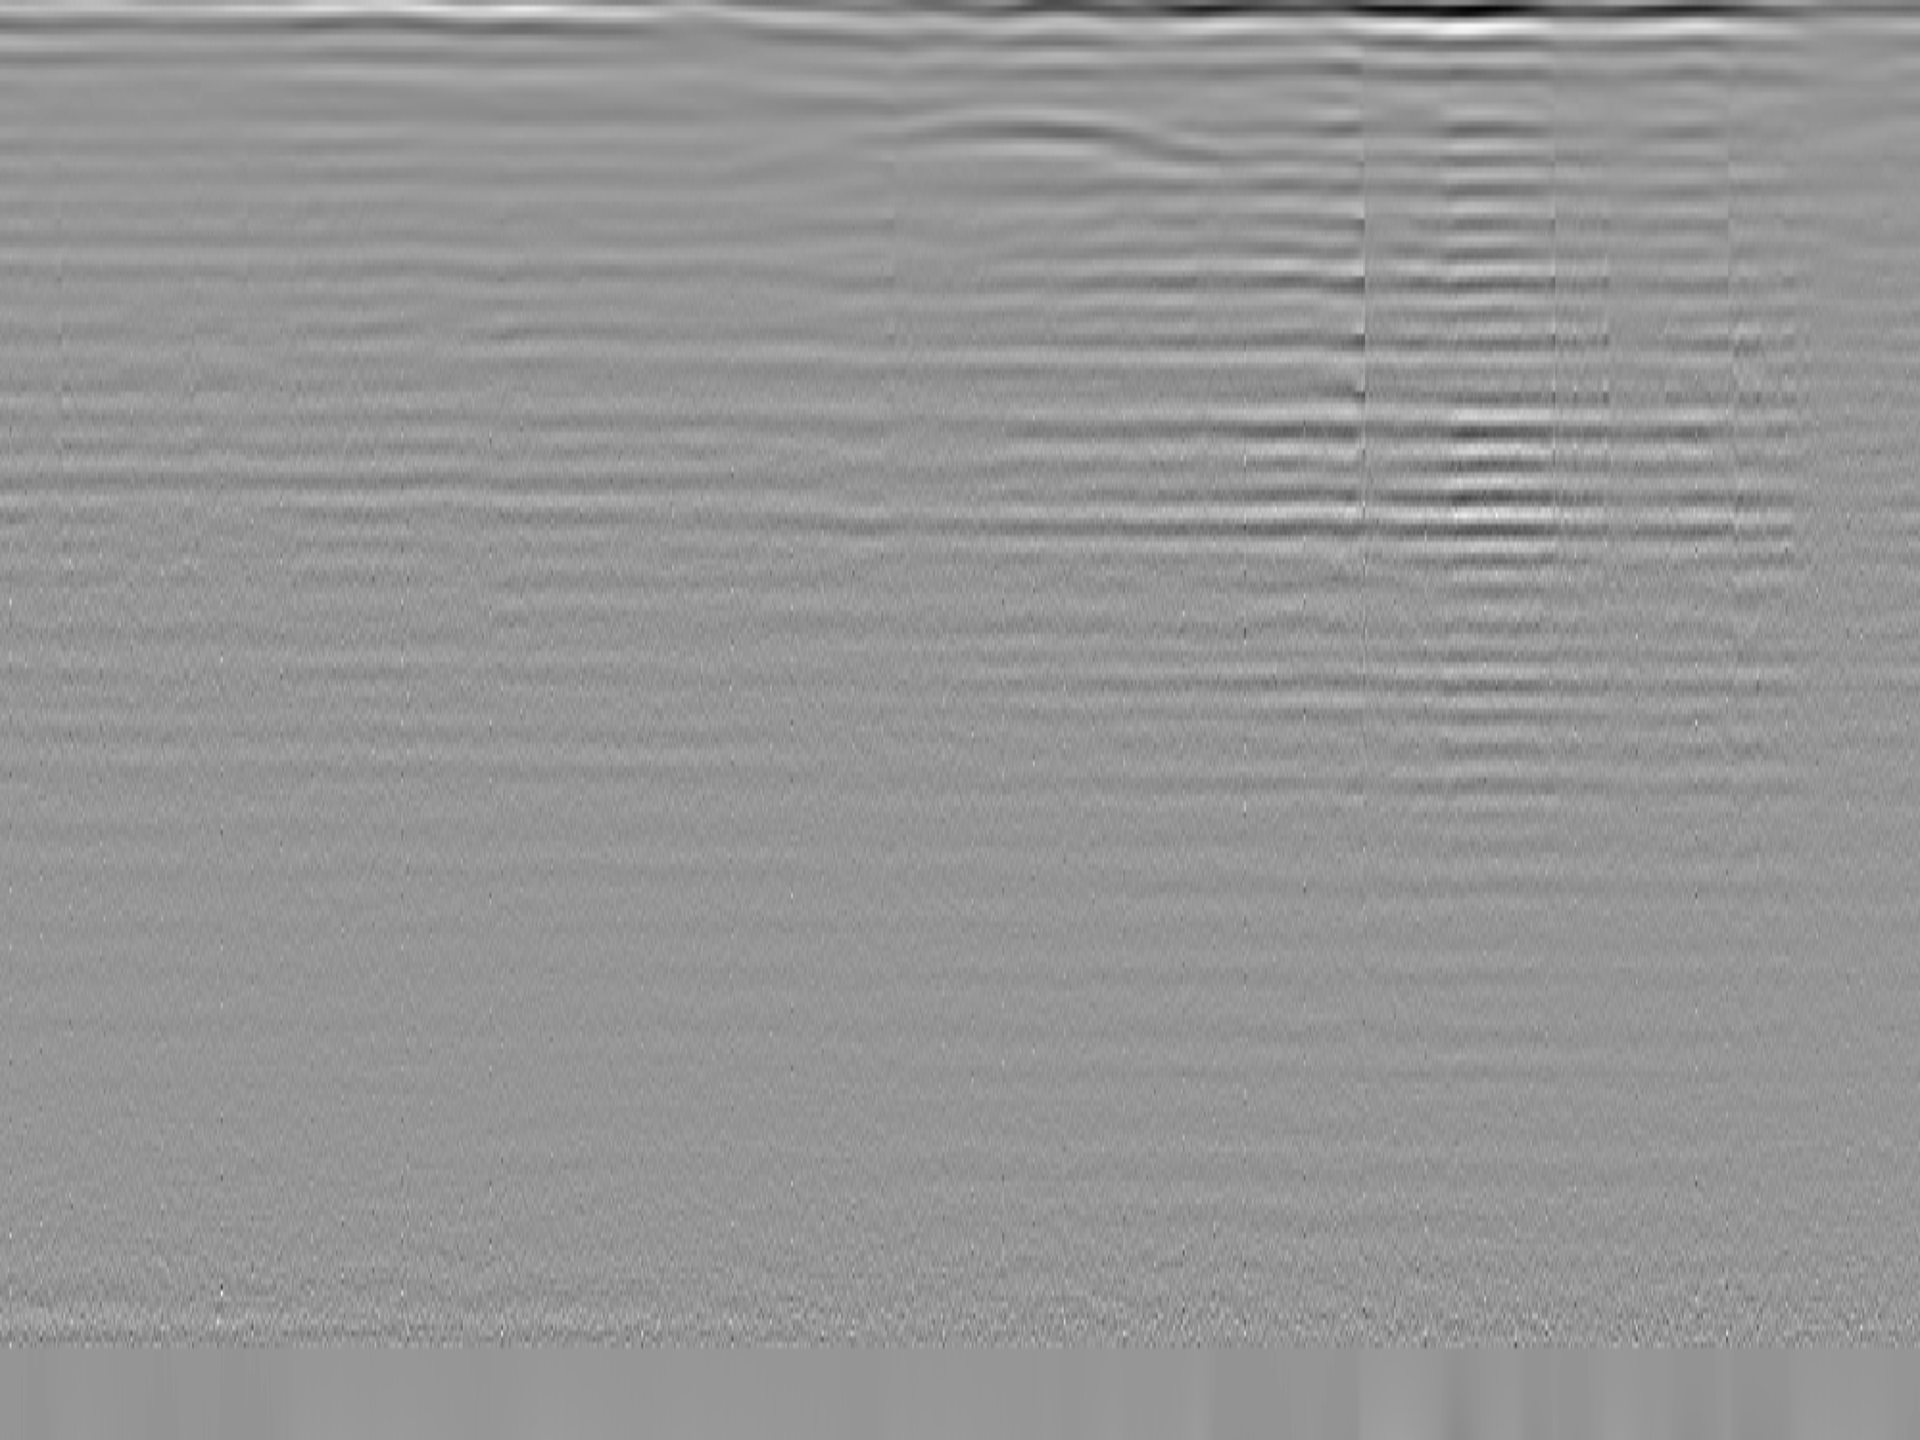Tunnel: (762, 104, 1243, 172)
